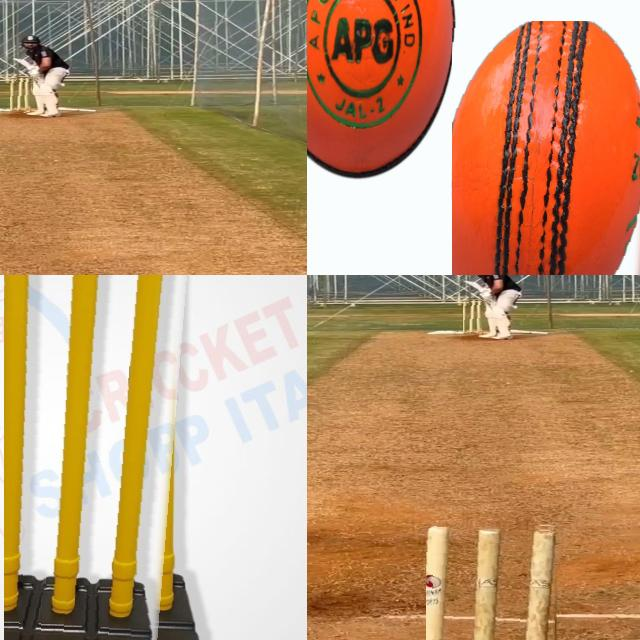Cricket ball: (452, 21, 640, 275), (307, 0, 455, 185)
Stumps: (4, 275, 200, 640), (426, 521, 563, 640), (10, 76, 33, 114), (463, 299, 484, 335)
